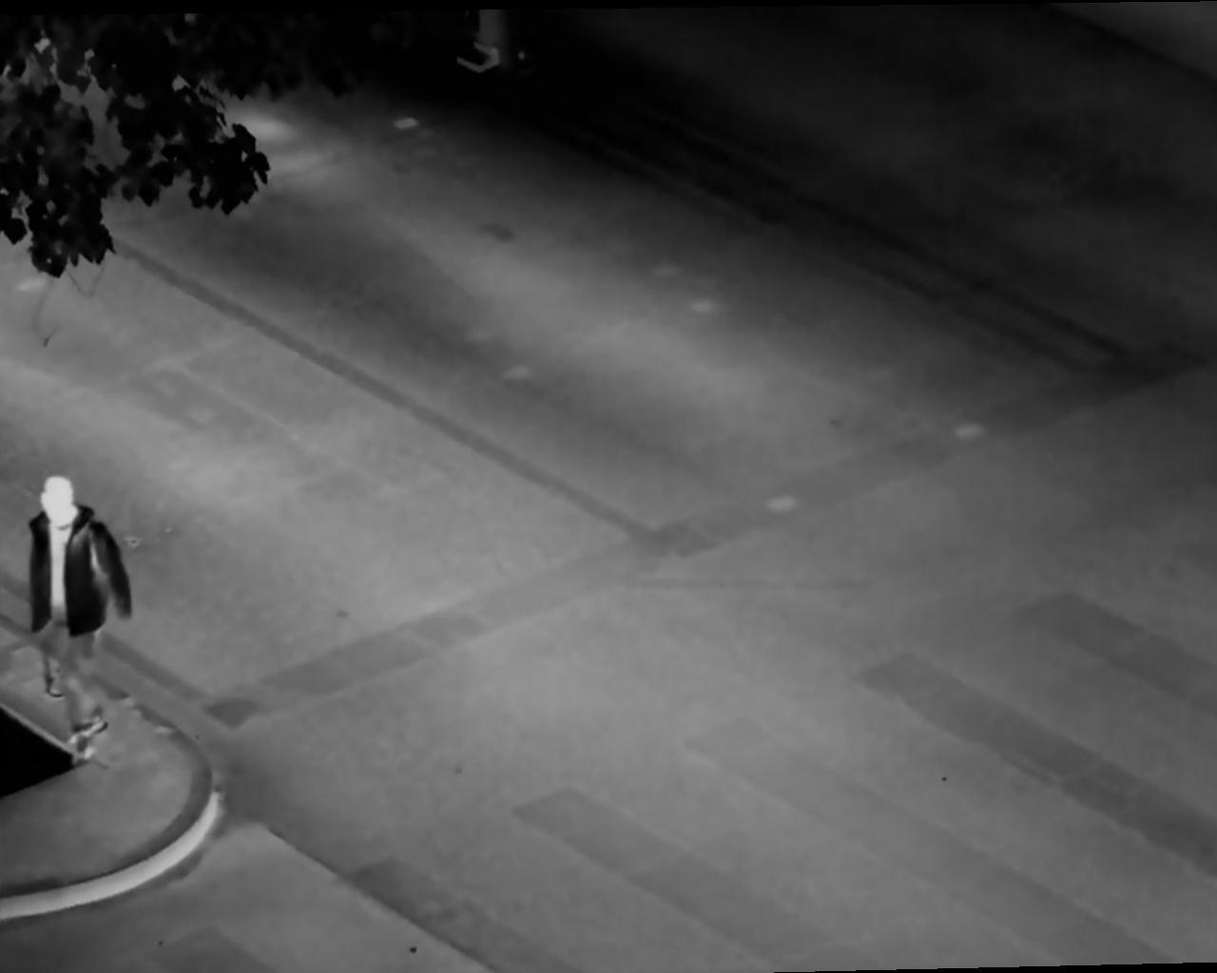person: (27, 469, 145, 757)
